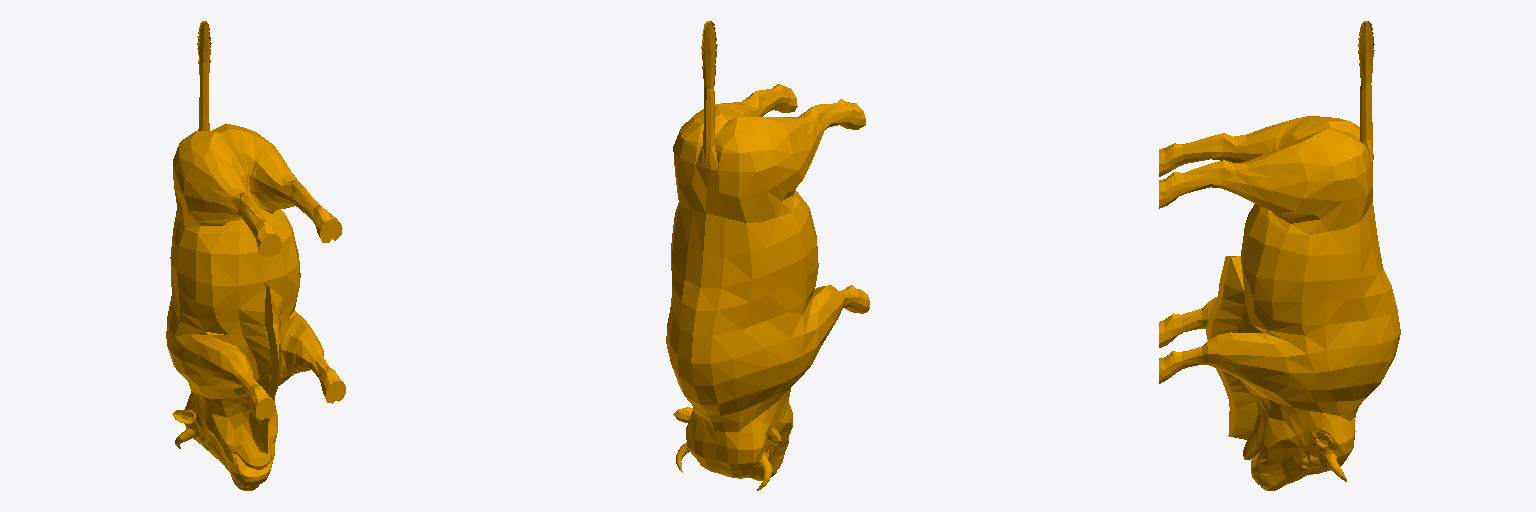
URDF robot description (assimp_wuson):
<robot name="assimp_wuson">
  <link name="base">
    <visual><geometry><mesh filename="assimp_wuson.normalized.obj"/></geometry></visual>
    <collision><geometry><mesh filename="assimp_wuson.collision_box.obj"/></geometry></collision>
  </link>
</robot>

--- Facts derived from the render (not from the file) ---
3 views of the same robot in one strip: view 1: azimuth 30°, elevation 25°; view 2: azimuth 150°, elevation 25°; view 3: azimuth 270°, elevation 25° (orthographic).
Robot: assimp_wuson — 1 links, 0 joints (none); root link base; default pose: all joints at 0.
Visible links, largest first — view 1: base; view 2: base; view 3: base.
Link boxes in pixels (box(x1,y1,x2,y2)): base: box(166, 21, 345, 490); base: box(666, 21, 869, 490); base: box(1159, 21, 1400, 490).
Bounding box of the posed robot: 0.2835 × 0.4672 × 1 m (x, y, z).
Meshes: 1 distinct files referenced, 1 mesh visuals loaded (1 OBJ).
